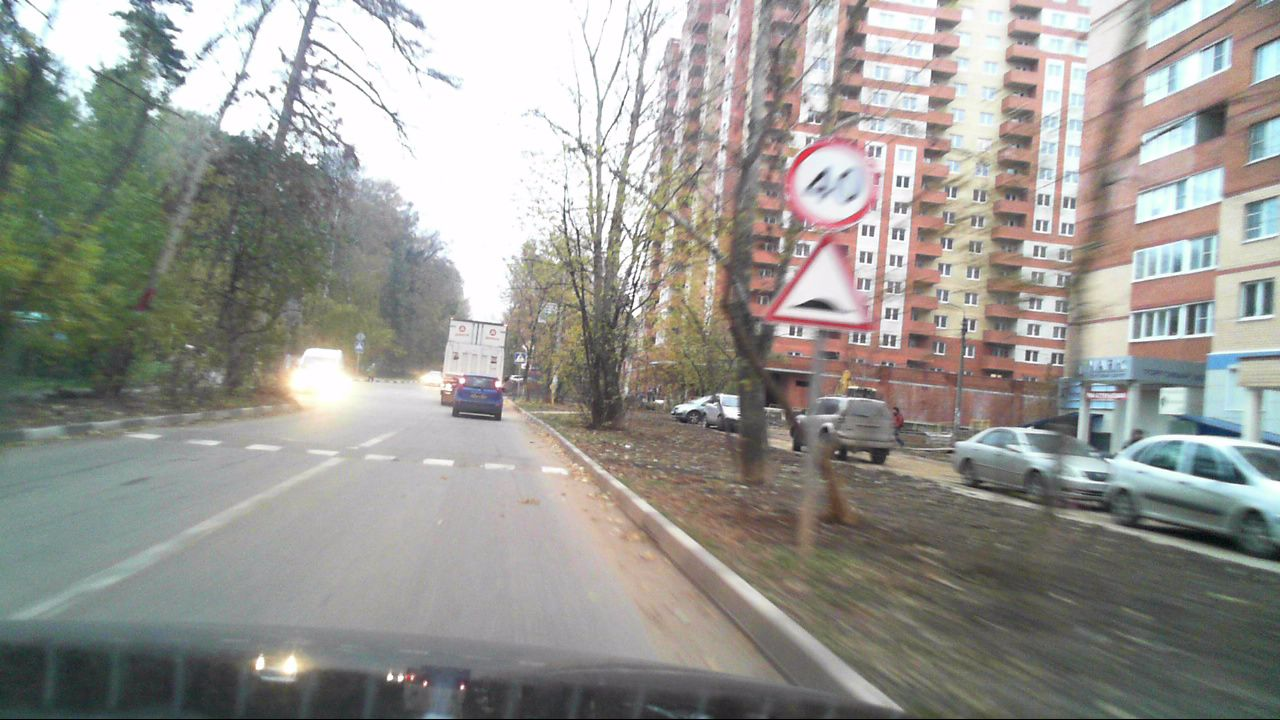speed_warning_40: (787, 139, 876, 231)
